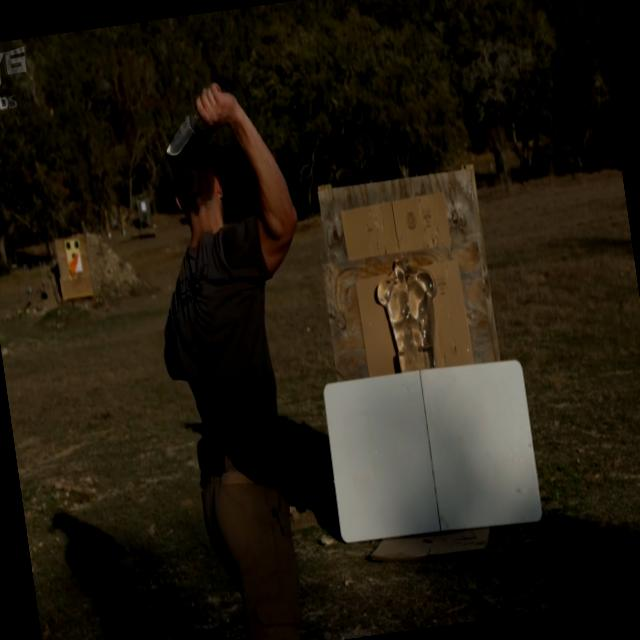knife: (151, 75, 232, 168)
